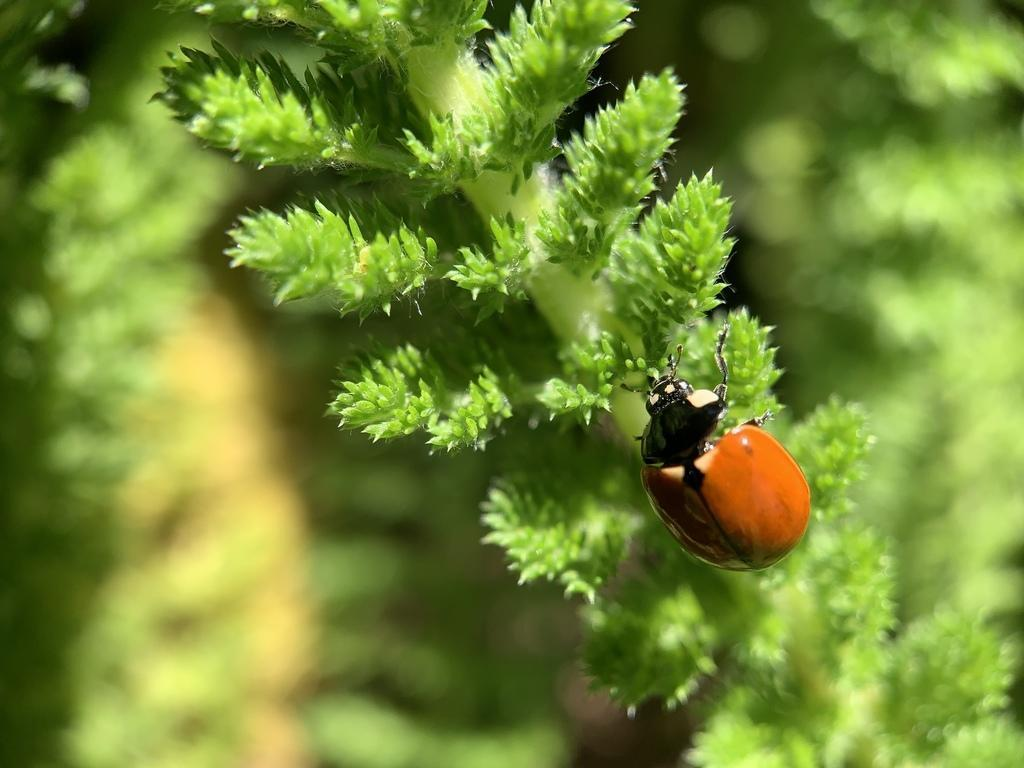ladybug: (631, 323, 817, 577)
